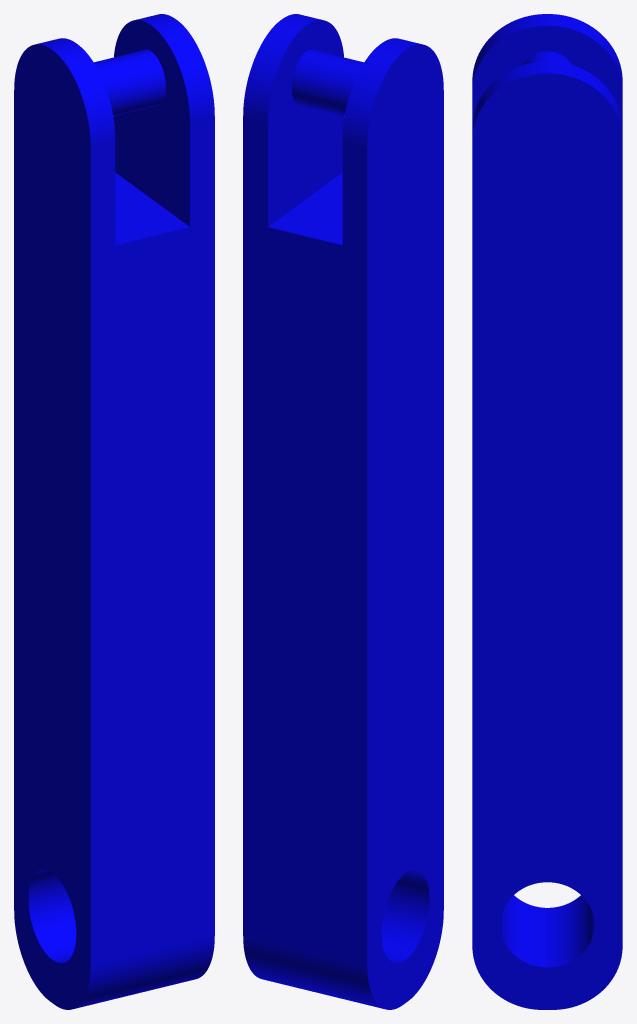
Rendered from second_link.dae.
The picture shows the model from 3 angles, left to right: view 1: azimuth 30°, elevation 25°; view 2: azimuth 150°, elevation 25°; view 3: azimuth 270°, elevation 25°; orthographic projection.
Parts seen in each view (by area): view 1: node0; view 2: node0; view 3: node0.
Boxes of the visible parts, x1,y1,x2,y2 form: node0: (14,14,214,1009); node0: (243,14,443,1009); node0: (472,14,622,1009).
Bounding box in the file's own units: 0.15 × 0.16 × 1.1.
